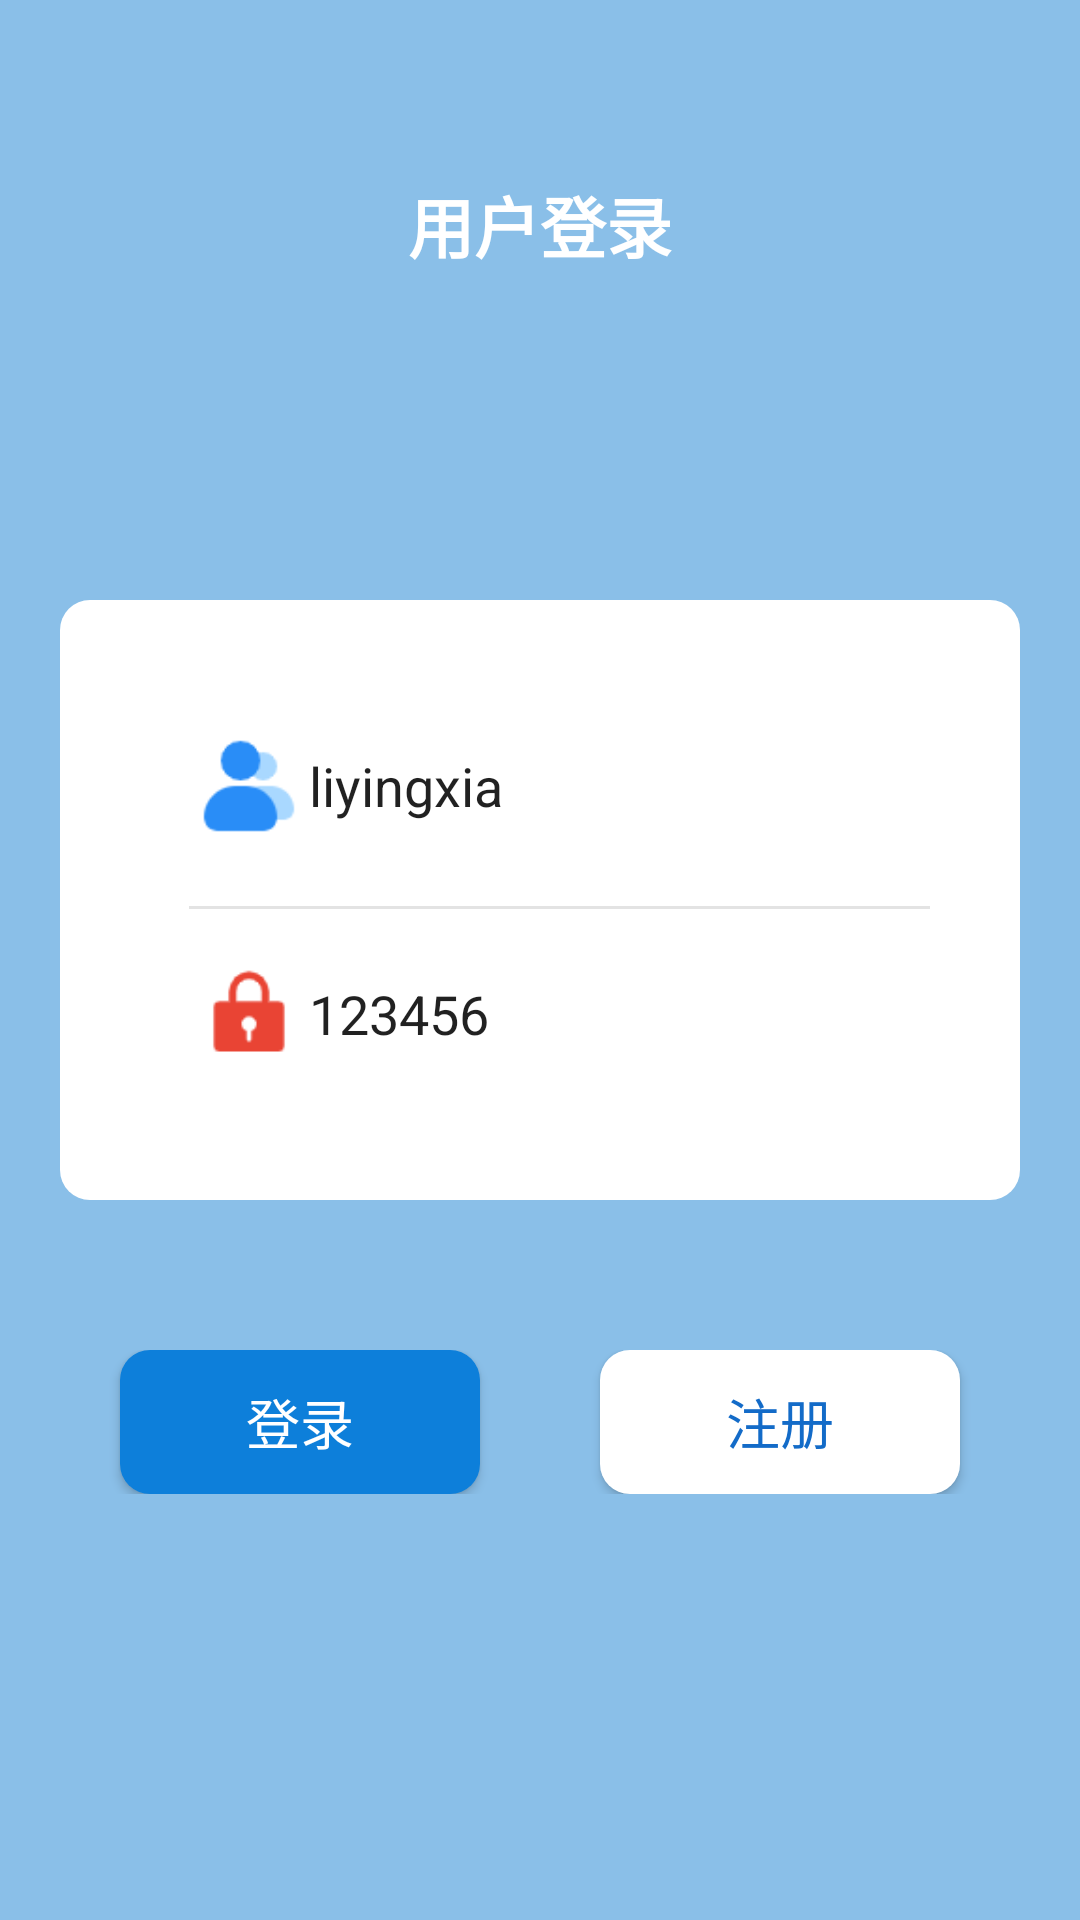

Icons on this 1080x1920 Android screen, each with the point to tap as (x=x, y=y):
user: (x=248, y=786)
